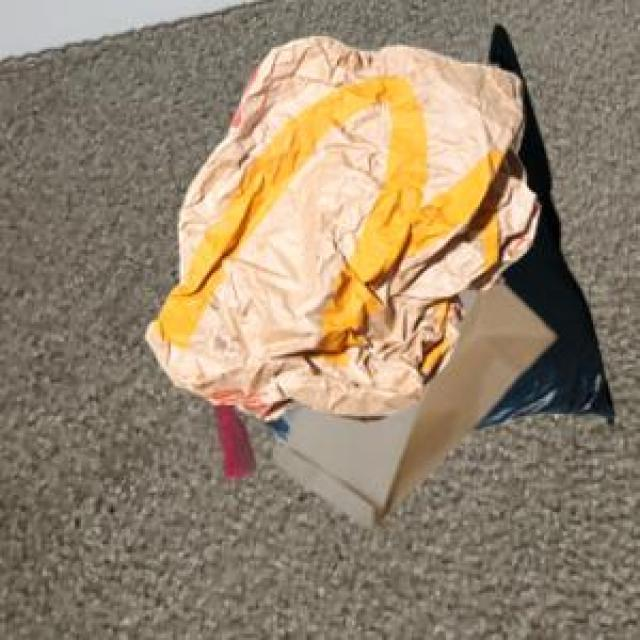miscellaneous trash: (211, 21, 610, 476)
paper: (141, 32, 536, 418), (271, 280, 550, 525)
